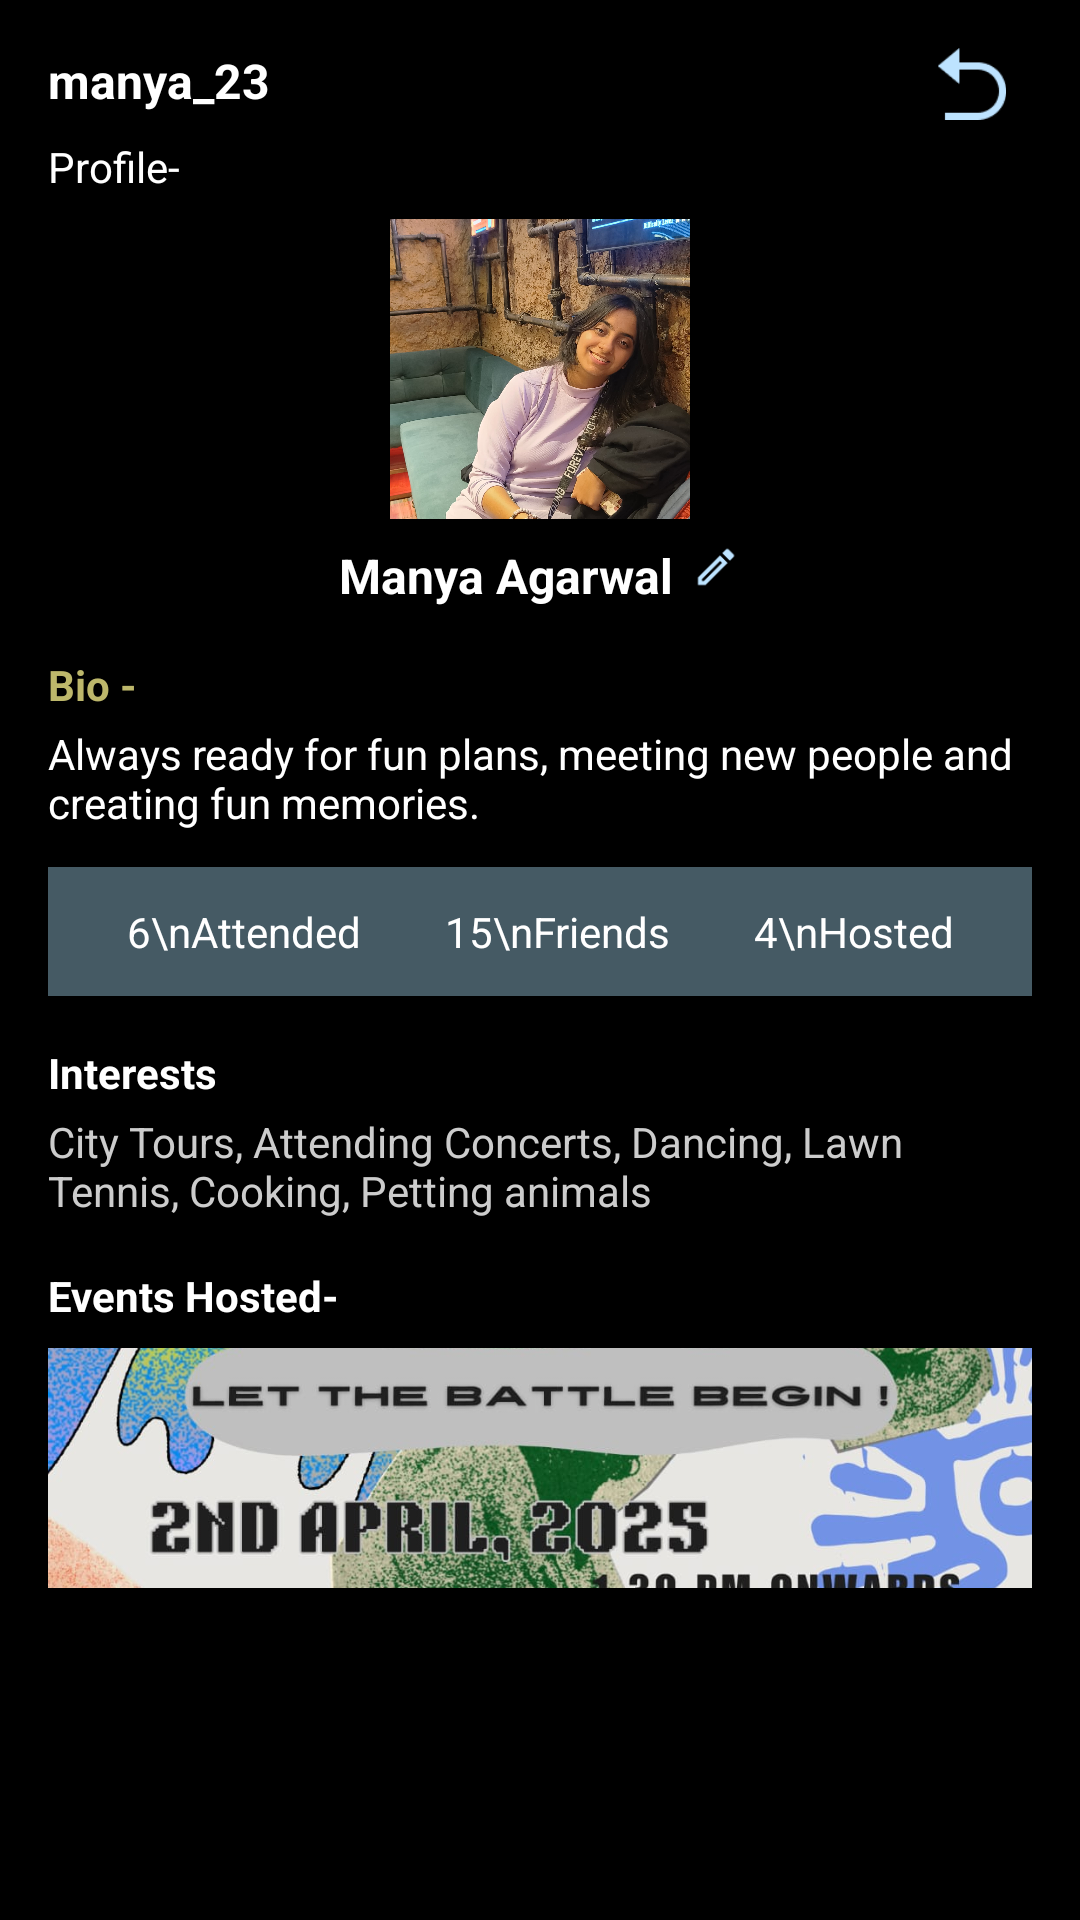

Locate icon controls on the screen. Image size 1080x1920, boxes as (x1, y1, x2, y2).
Back Button: (938, 48, 1006, 120)
Edit Name: (697, 548, 735, 586)
user profile: (390, 219, 690, 519)
